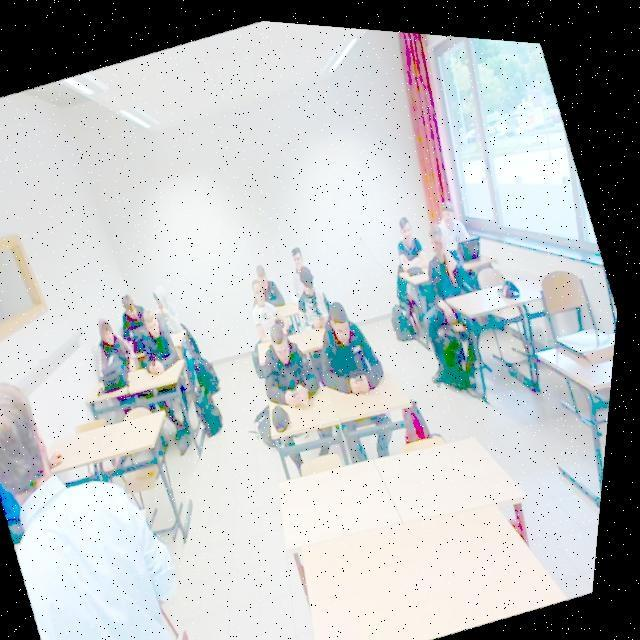phone_use: (319, 301, 381, 392), (255, 319, 317, 404), (122, 295, 180, 372), (290, 247, 328, 327)
